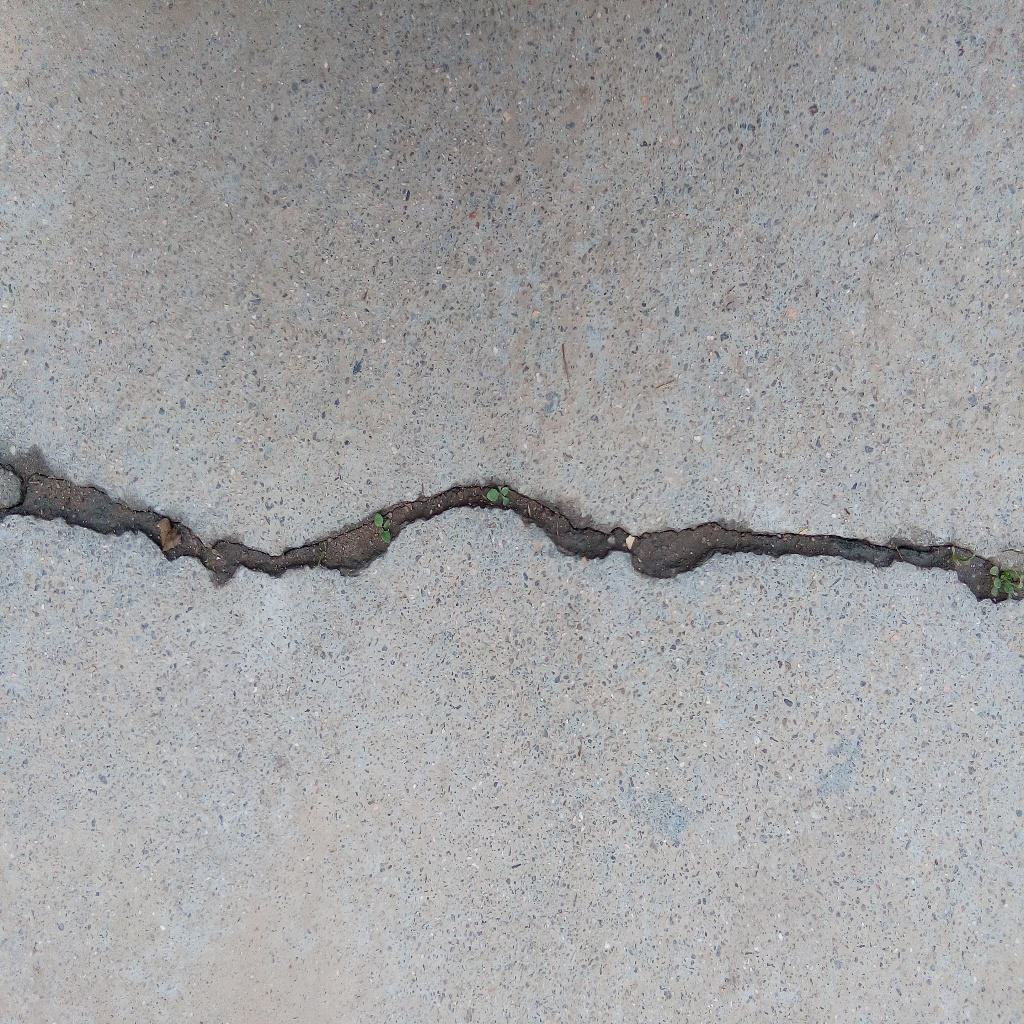Crack: (1, 467, 1024, 606)
